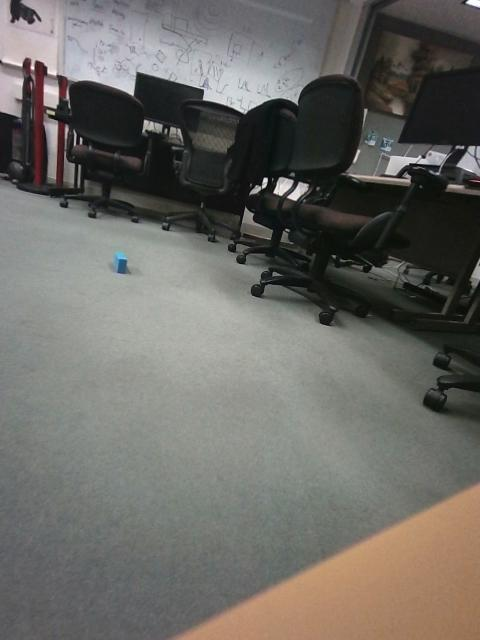block: (145, 280, 196, 324)
